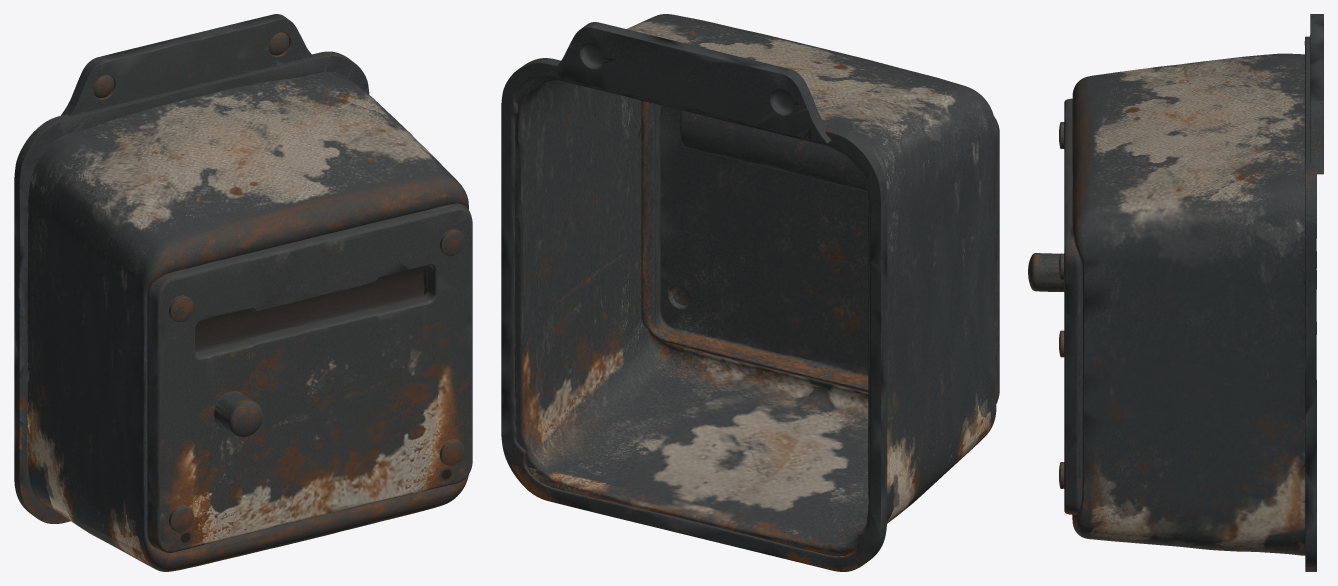
File: BoiteLettres.fbx
3 views of the same model, side by side, from view 1: azimuth 30°, elevation 25°; view 2: azimuth 150°, elevation 25°; view 3: azimuth 270°, elevation 25° (orthographic). The views are drawn at different scales.
Visible parts, largest first — view 1: Mesh_0; view 2: Mesh_0; view 3: Mesh_0.
Boxes of the visible parts, left/top/right/bottom form: Mesh_0: left=14, top=14, right=472, bottom=571; Mesh_0: left=501, top=14, right=999, bottom=571; Mesh_0: left=1028, top=14, right=1323, bottom=571.
Bounding box in the file's own units: 155 × 190 × 114.
Materials: 1 (1 with a texture image).
